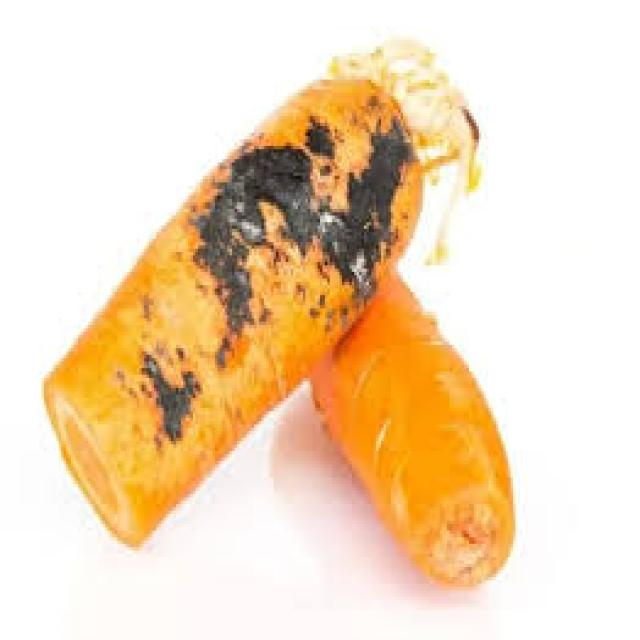Stale_Carrot: (45, 44, 513, 585), (46, 80, 421, 542)
